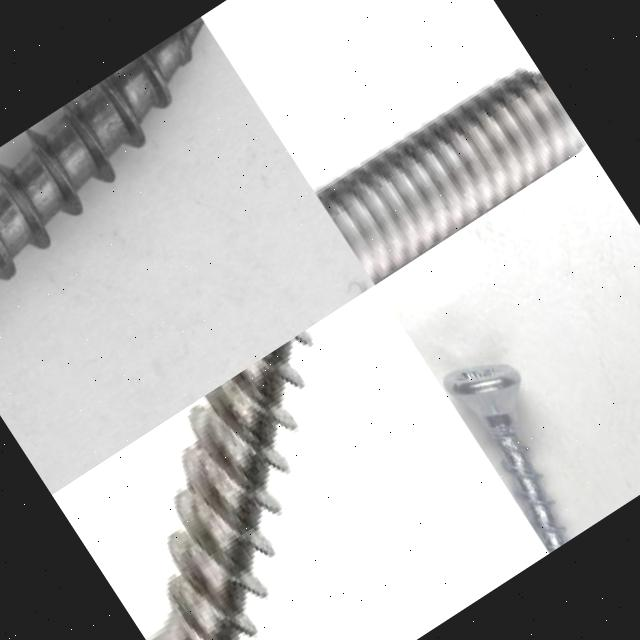Screw: (0, 16, 344, 447), (312, 64, 583, 284), (145, 327, 313, 640), (444, 364, 566, 553)
